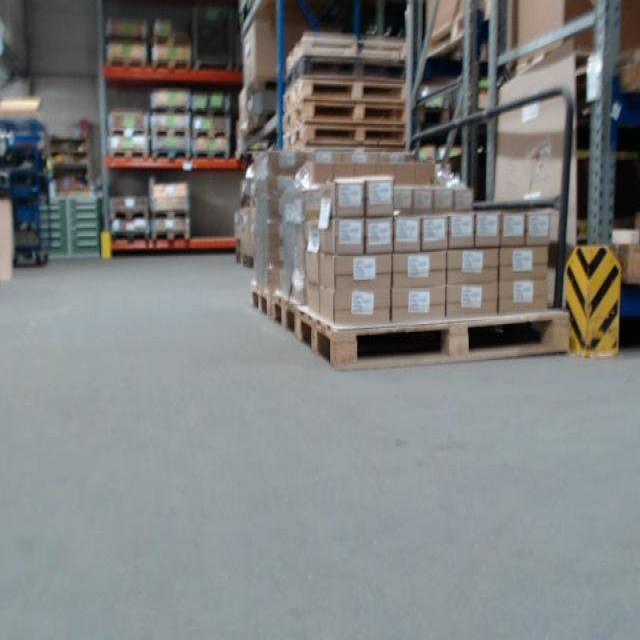pallet: (297, 306, 571, 372), (295, 96, 411, 126), (297, 49, 409, 78), (298, 126, 411, 147), (422, 14, 476, 57), (295, 78, 409, 96), (297, 38, 411, 49), (270, 296, 298, 335), (249, 286, 272, 315), (107, 34, 148, 46), (151, 36, 192, 48), (151, 127, 191, 139), (108, 127, 150, 138), (151, 60, 192, 71), (109, 148, 150, 159), (106, 58, 149, 68), (193, 107, 232, 118), (192, 129, 231, 140), (151, 149, 191, 159), (150, 210, 190, 220), (151, 105, 190, 115), (192, 149, 231, 159), (110, 210, 149, 220), (112, 232, 150, 241), (150, 232, 192, 240)
